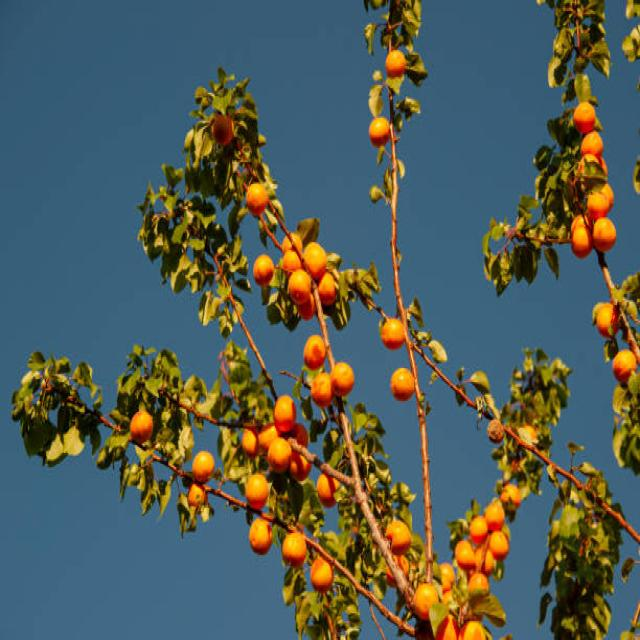kayisi: (250, 227, 352, 316), (239, 396, 324, 486), (578, 104, 617, 266), (371, 294, 423, 414), (452, 508, 516, 582)
kayisi-yapragi: (549, 457, 628, 640), (12, 336, 114, 476), (132, 164, 235, 282), (504, 323, 579, 424)
